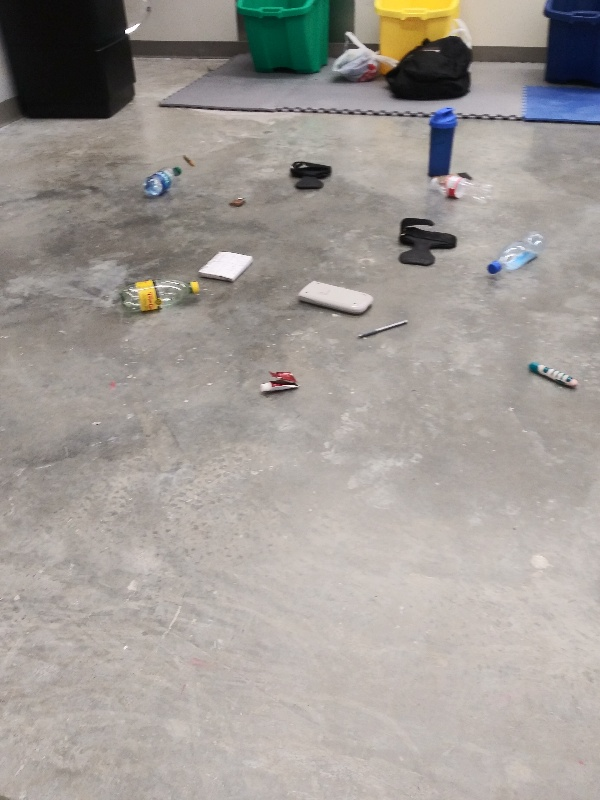bottle: (484, 228, 553, 278), (120, 277, 205, 313), (426, 174, 496, 206), (134, 162, 187, 201)
